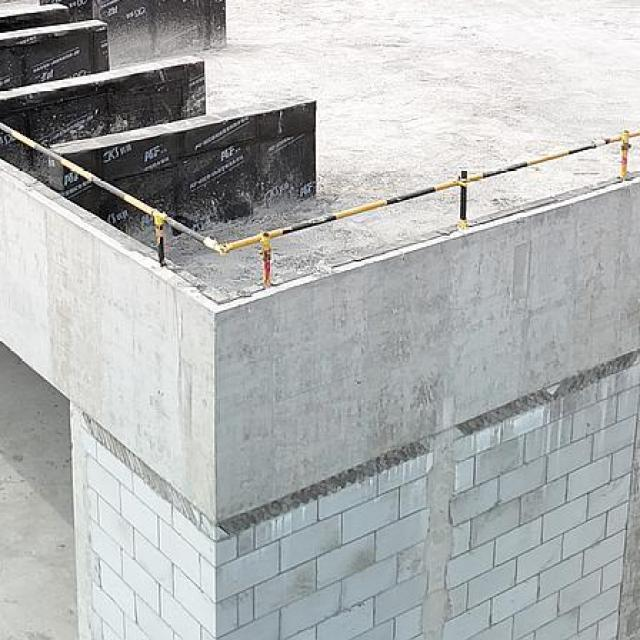edge_guardrail: (0, 117, 640, 293)
